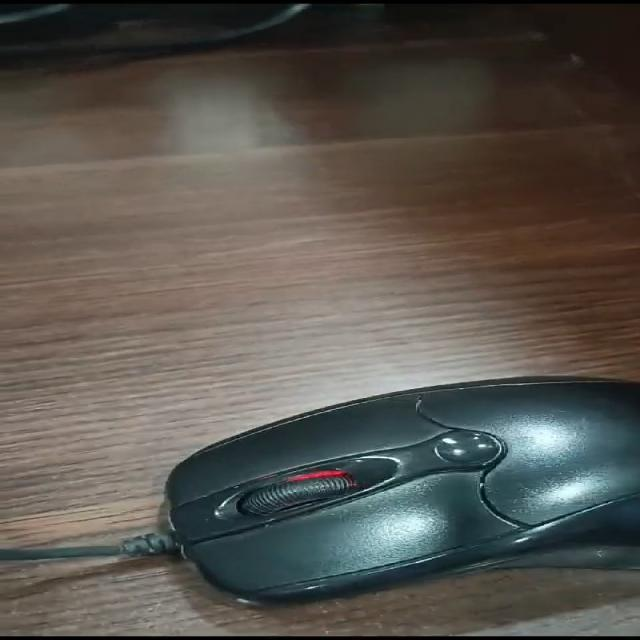Mouse: (91, 350, 640, 627)
